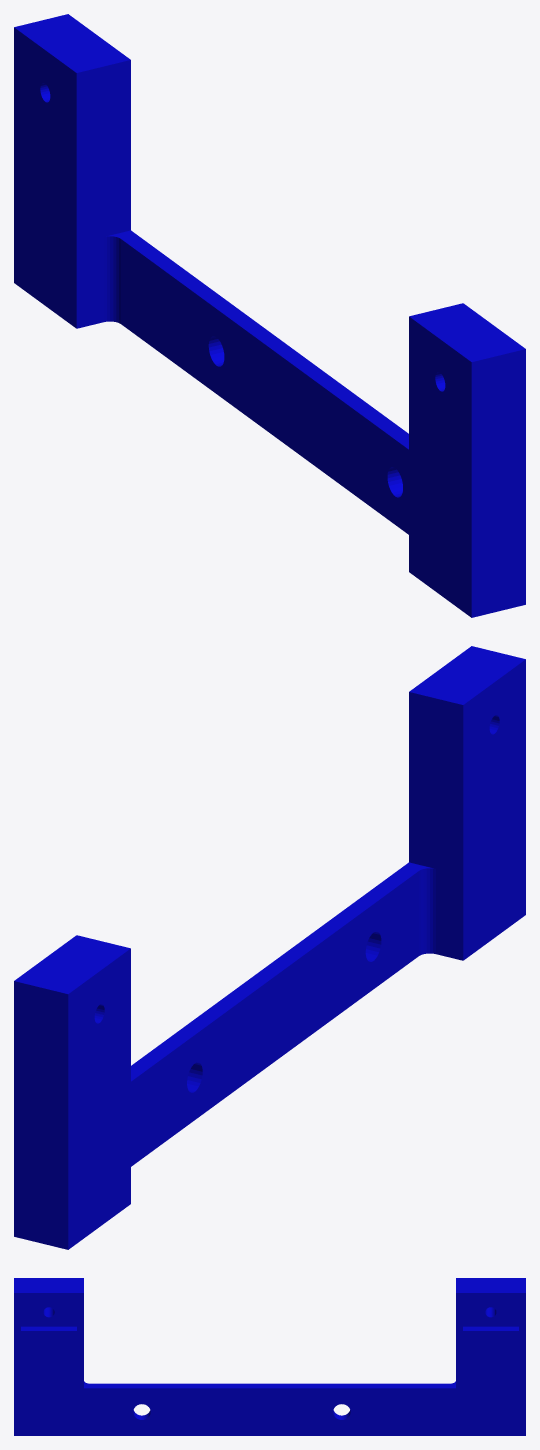
The model's file is displayBracket.dae.
3 renders of one model, top to bottom at view 1: azimuth 30°, elevation 25°; view 2: azimuth 150°, elevation 25°; view 3: azimuth 270°, elevation 25°, orthographic. The views are drawn at different scales.
Parts seen in each view (by area): view 1: node0; view 2: node0; view 3: node0.
Boxes of the visible parts, x1,y1,x2,y2 form: node0: [14, 14, 525, 617]; node0: [14, 646, 525, 1249]; node0: [14, 1278, 525, 1435].
Size of the model in its own units: 10 by 146 by 45.
